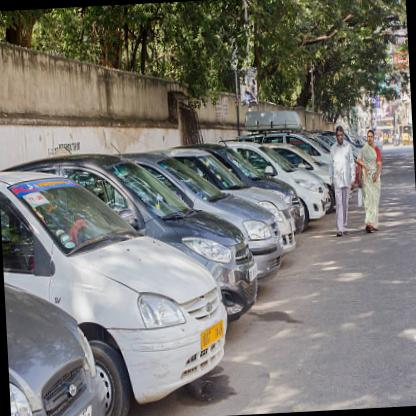car: (0, 161, 232, 415), (5, 145, 260, 335), (135, 146, 283, 288), (229, 139, 330, 223)
